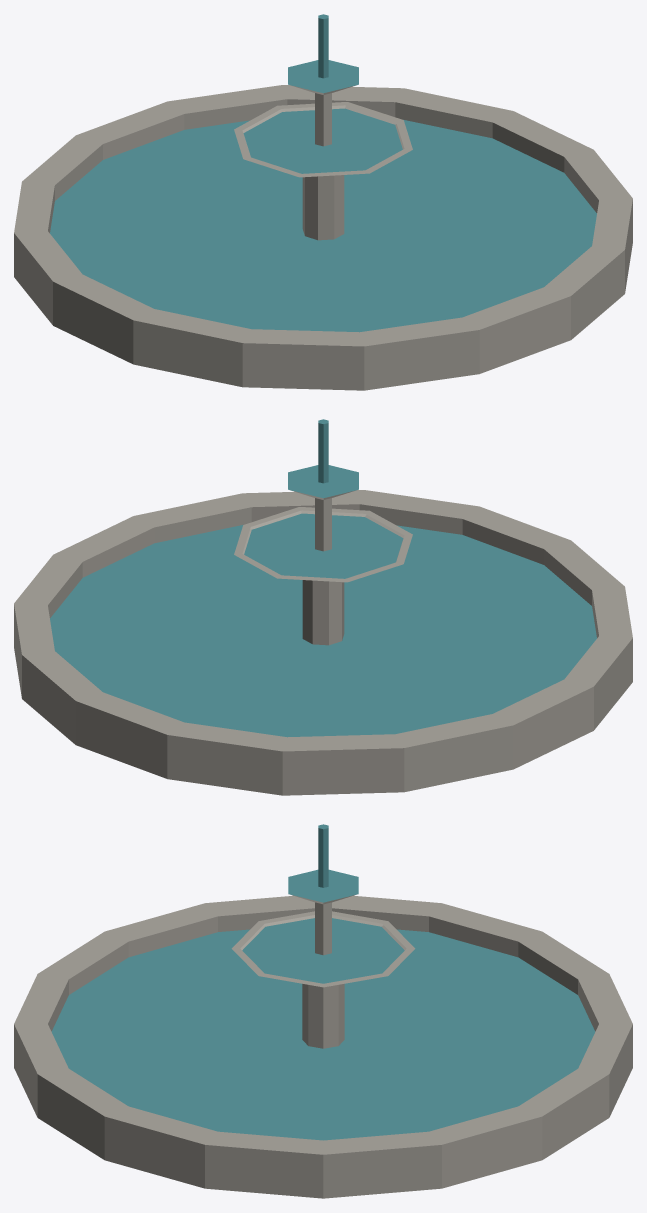
Rendered from site_feature1.fbx.
The picture shows the model from 3 angles, top to bottom: view 1: azimuth 30°, elevation 25°; view 2: azimuth 150°, elevation 25°; view 3: azimuth 270°, elevation 25°; orthographic projection.
Parts seen in each view (by area): view 1: a3004/0/site_feature1; view 2: a3004/0/site_feature1; view 3: a3004/0/site_feature1.
Part boxes in pixels (left/top/right/bottom): a3004/0/site_feature1: left=14, top=14, right=632, bottom=390; a3004/0/site_feature1: left=14, top=419, right=632, bottom=795; a3004/0/site_feature1: left=14, top=824, right=632, bottom=1198.
Bounding box in the file's own units: 6.4 × 2.75 × 6.4.
